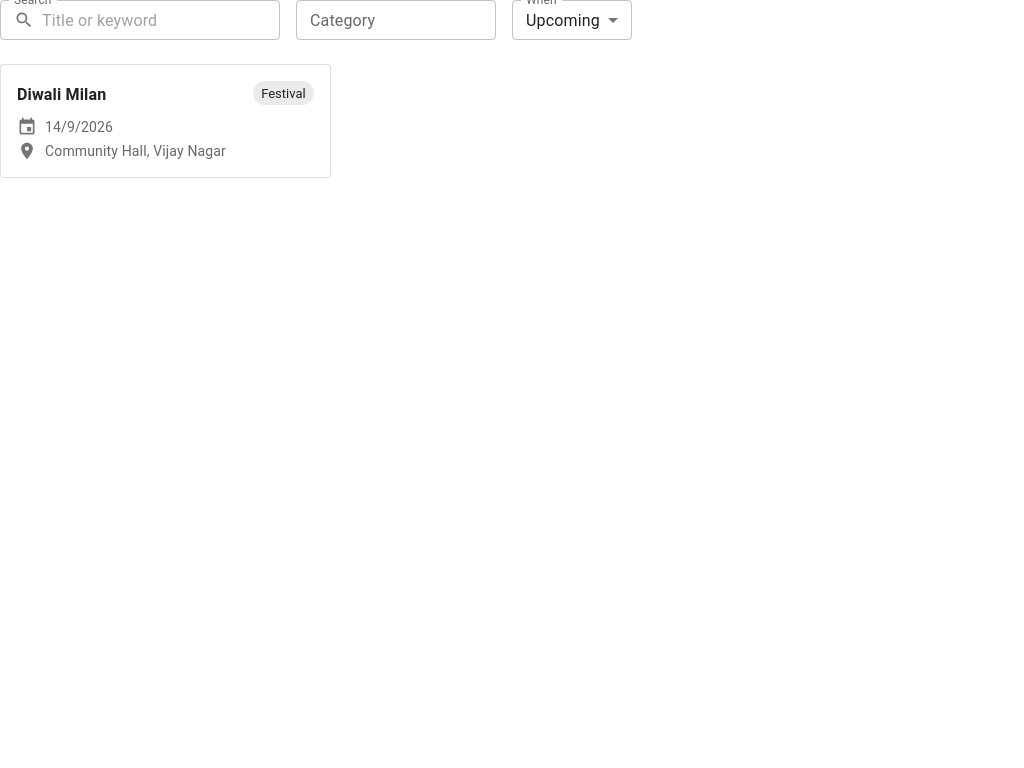
BrowseEventsTab › opens the detail dialog and registers the caller's own family
Step 1. Click the heading "Diwali Milan" → (62, 95), box [17,81,106,109]
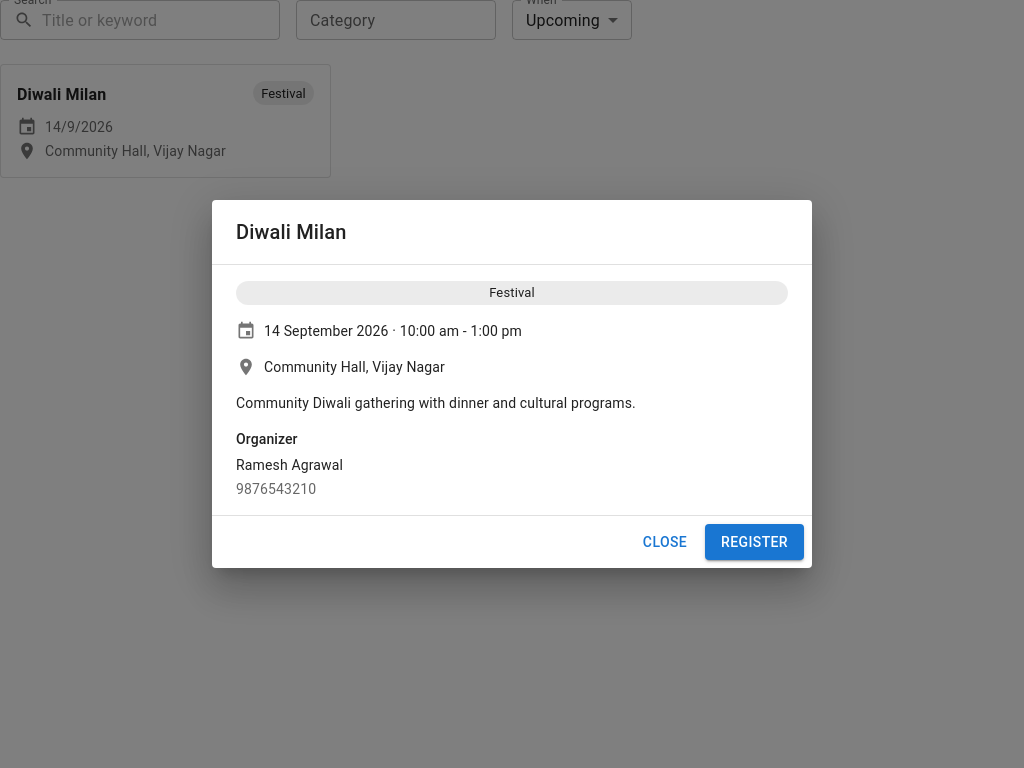
Step 2. Click the button "Register" → (754, 542), box [705,524,804,560]
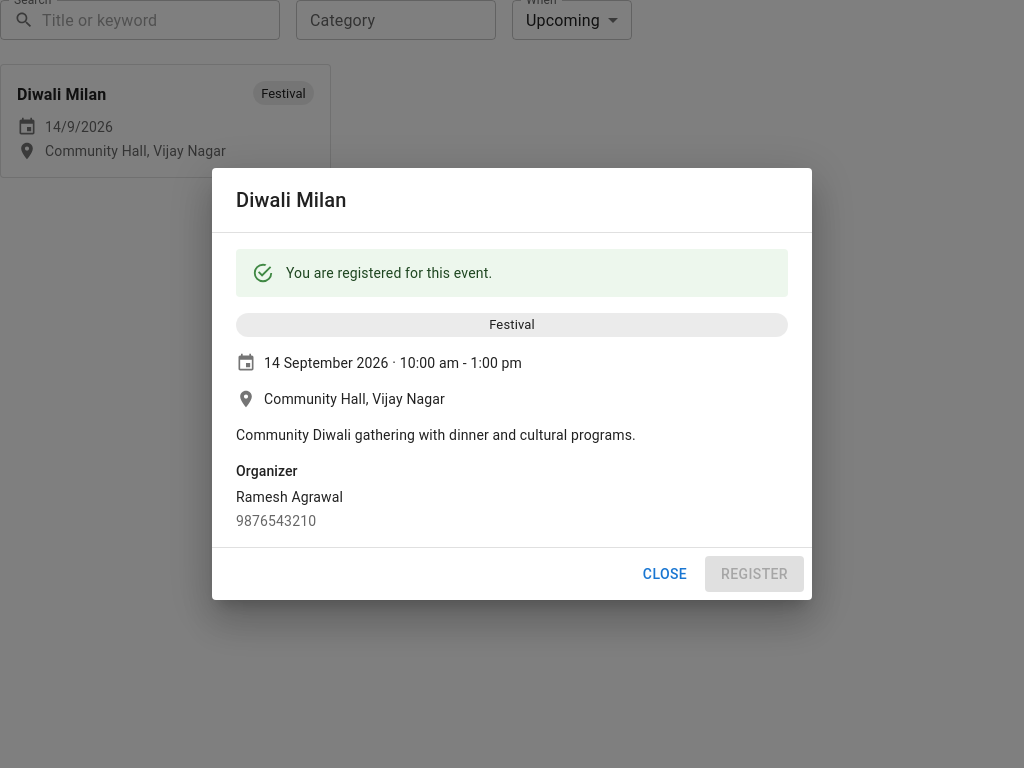
Check: the text "You are registered for this event." is shown, box [286,265,492,281]
